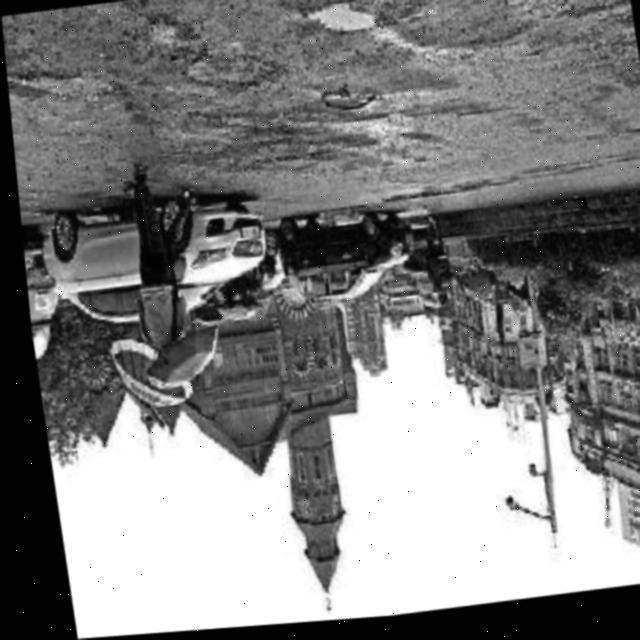Pothole: (182, 49, 276, 105), (305, 5, 382, 53), (318, 93, 379, 125), (292, 0, 538, 4)
